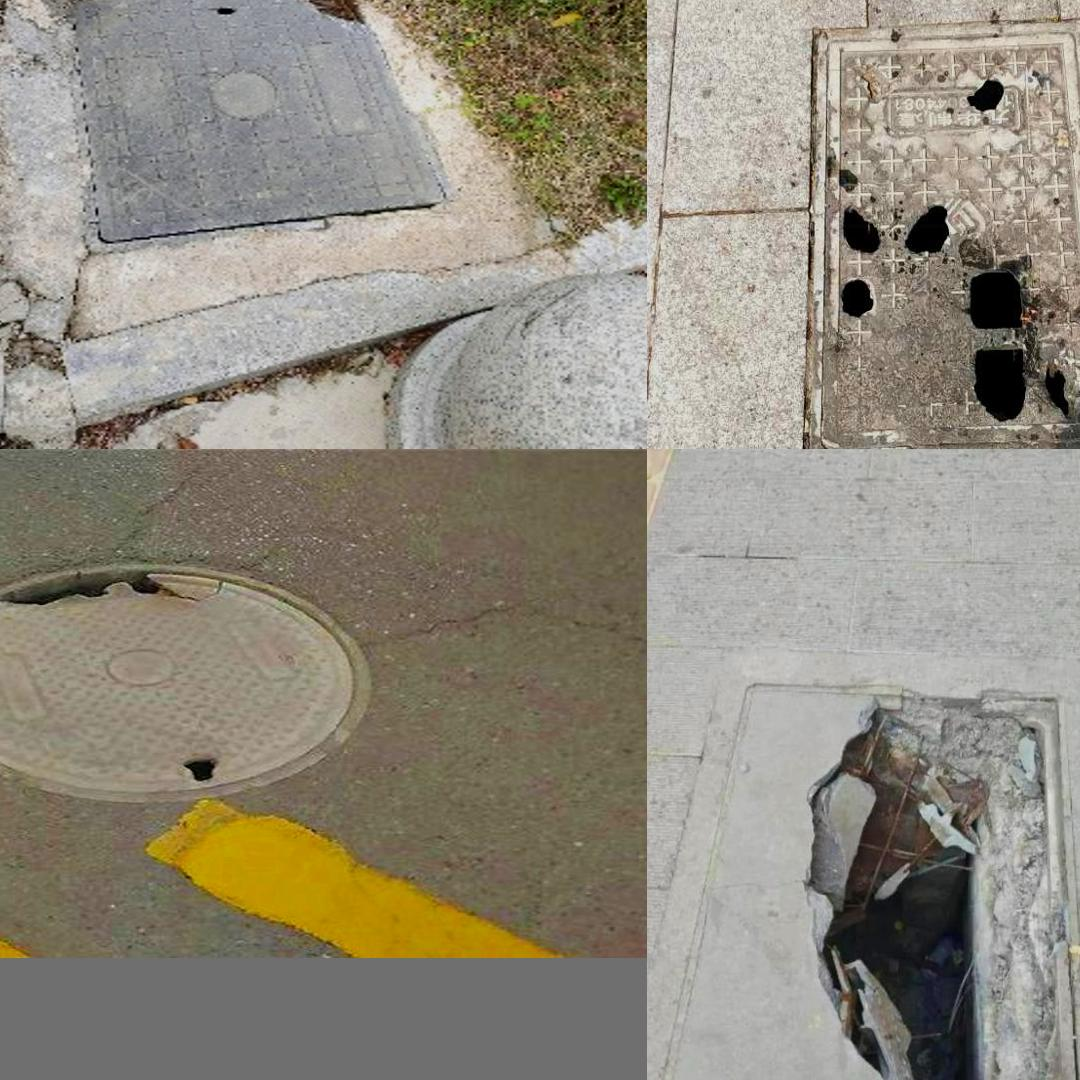broke: (670, 661, 1080, 1080), (808, 35, 1080, 449), (60, 0, 455, 255), (0, 550, 385, 807)
